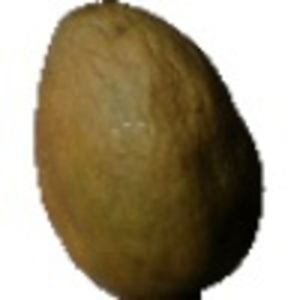mamão: (24, 2, 265, 292)
